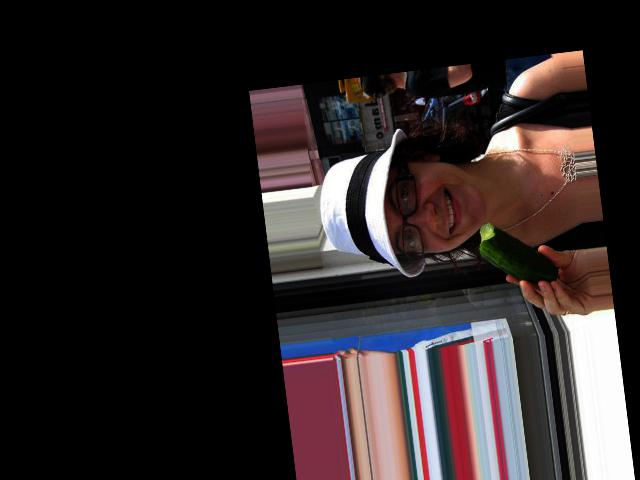cucumber: (476, 216, 559, 291)
